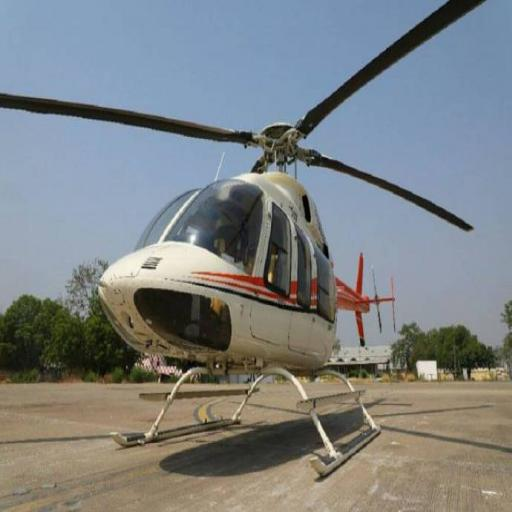helicopter: (4, 2, 487, 480)
